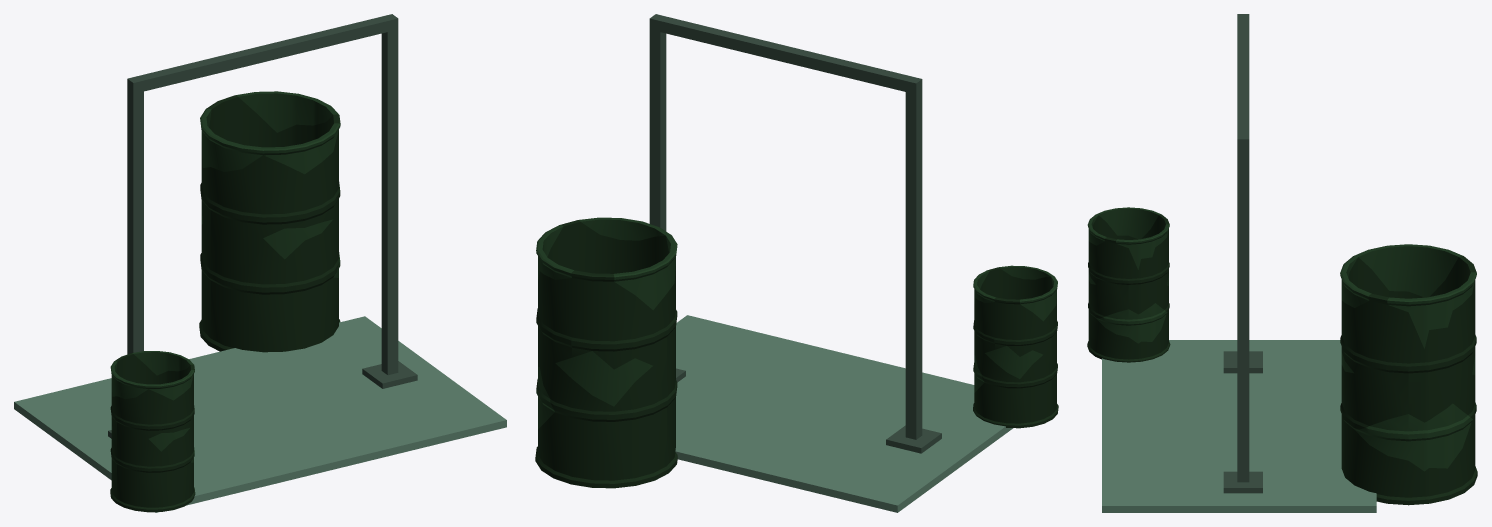
File: PullUp_BarUpgrade5.glb
3 views of the same model, side by side, from view 1: azimuth 30°, elevation 25°; view 2: azimuth 150°, elevation 25°; view 3: azimuth 270°, elevation 25° (orthographic). The views are drawn at different scales.
Parts seen in each view (by area): view 1: Cube, Barrel, Barrel_copy, Cube_copy_copy_copy, Cube_copy_copy_copy_copy, Cube_copy_copy_copy_copy_copy, Cube_copy_copy; view 2: Cube, Barrel, Barrel_copy, Cube_copy_copy_copy_copy, Cube_copy_copy_copy_copy_copy, Cube_copy_copy_copy, Cube_copy; view 3: Cube, Barrel, Barrel_copy, Cube_copy_copy_copy, Cube_copy_copy_copy_copy_copy, Cube_copy_copy, Cube_copy.
Part boxes in pixels (x1,y1,x2,y2): Cube: (14,316,506,512); Barrel: (199,91,340,352); Barrel_copy: (110,351,195,512); Cube_copy_copy_copy: (381,14,398,375); Cube_copy_copy_copy_copy: (127,76,143,354); Cube_copy_copy_copy_copy_copy: (130,14,398,92); Cube_copy_copy: (362,361,417,388); Cube: (675,315,1013,512); Barrel: (535,217,677,488); Barrel_copy: (973,265,1058,428); Cube_copy_copy_copy_copy: (905,76,922,439); Cube_copy_copy_copy_copy_copy: (649,14,919,92); Cube_copy_copy_copy: (649,14,666,231); Cube_copy: (886,425,941,453); Cube: (1102,340,1376,512); Barrel: (1340,244,1477,505); Barrel_copy: (1087,207,1170,362); Cube_copy_copy_copy: (1237,134,1249,482); Cube_copy_copy_copy_copy_copy: (1237,14,1249,149); Cube_copy_copy: (1223,471,1262,493); Cube_copy: (1223,351,1262,373).
Size of the model in its own units: 8.6 by 8 by 7.96.
Materials: 8 (2 with a texture image).
